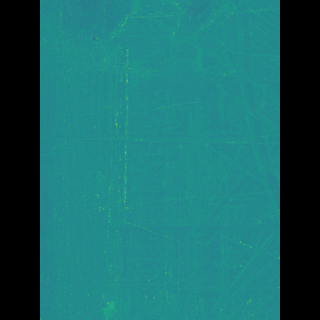Loch: (109, 0, 252, 320)
